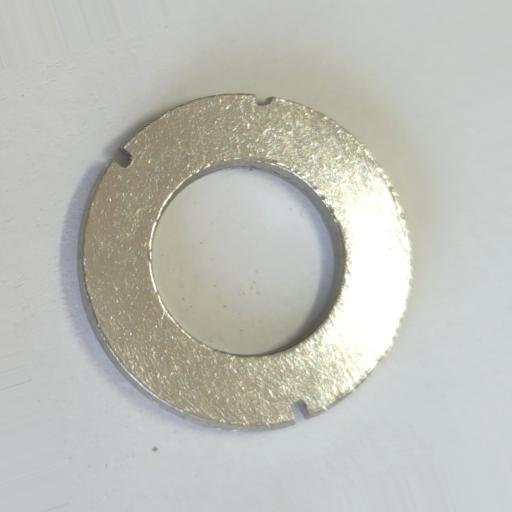burr: (288, 398, 311, 421), (112, 147, 133, 169), (253, 95, 273, 107)
